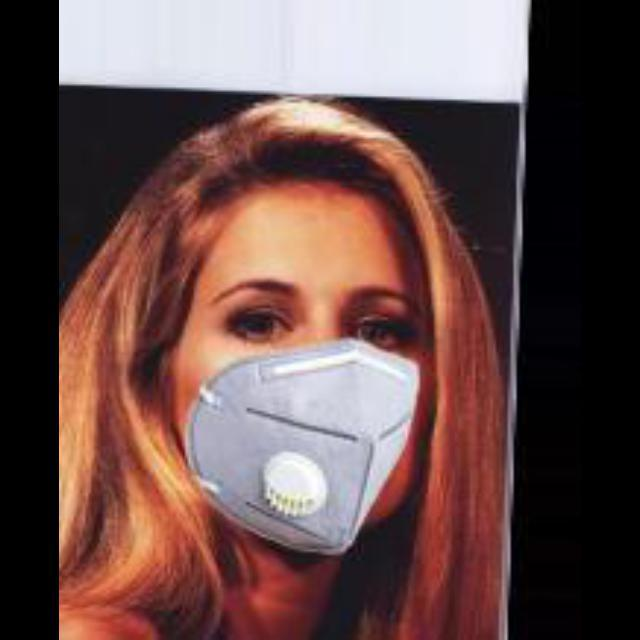suspicion: (148, 150, 466, 516)
